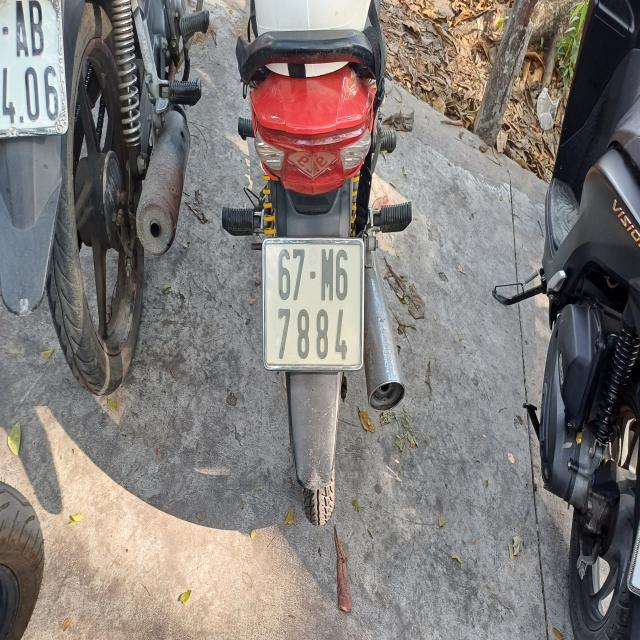6: (276, 248, 292, 303), (334, 249, 348, 303)
7: (291, 248, 306, 304), (277, 307, 292, 361)
8: (296, 308, 310, 360), (316, 308, 330, 359), (334, 310, 347, 362)
M: (320, 246, 334, 305)
